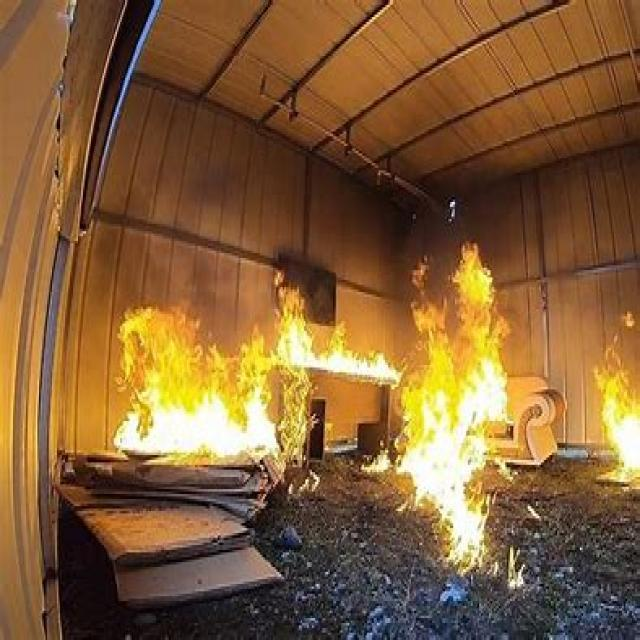fire: (398, 231, 526, 590), (115, 303, 310, 467), (258, 283, 406, 379), (588, 334, 640, 484), (362, 430, 408, 482)
